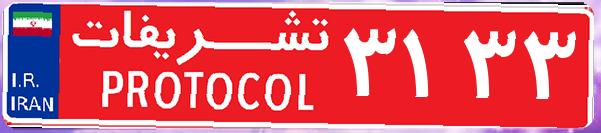1: (400, 20, 460, 115)
3: (340, 20, 400, 115), (460, 20, 520, 115), (520, 20, 580, 115)
تشریفات: (60, 8, 340, 125)
